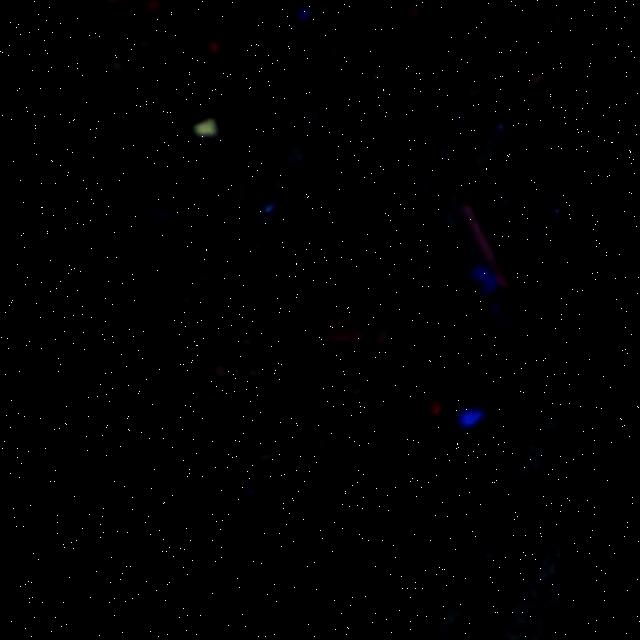microbeads: (192, 115, 220, 138)
